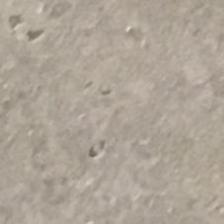Non_Crack: (36, 64, 210, 204)
